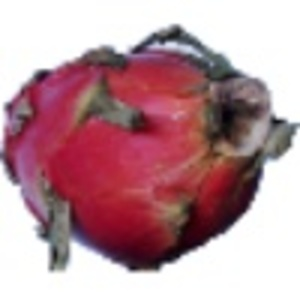pitaia: (1, 25, 300, 274)
